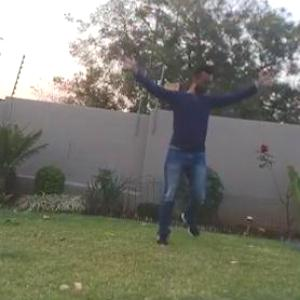takeoff: (118, 52, 277, 257)
